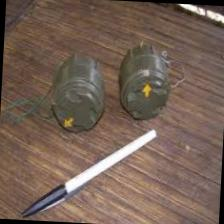M14: (50, 53, 106, 134), (116, 45, 171, 123)
